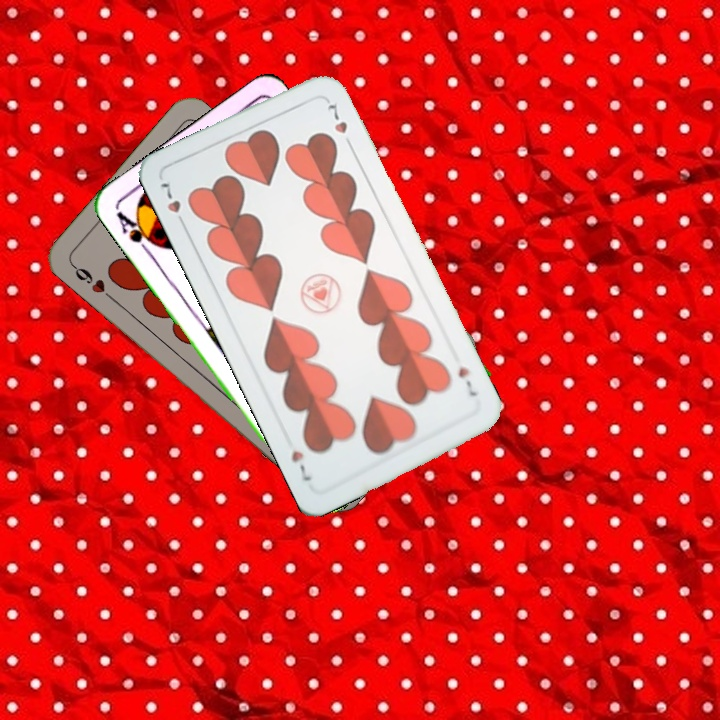H7: (156, 176, 189, 231), (454, 362, 480, 399)
H9: (67, 260, 117, 303)
SA: (112, 206, 162, 258)
